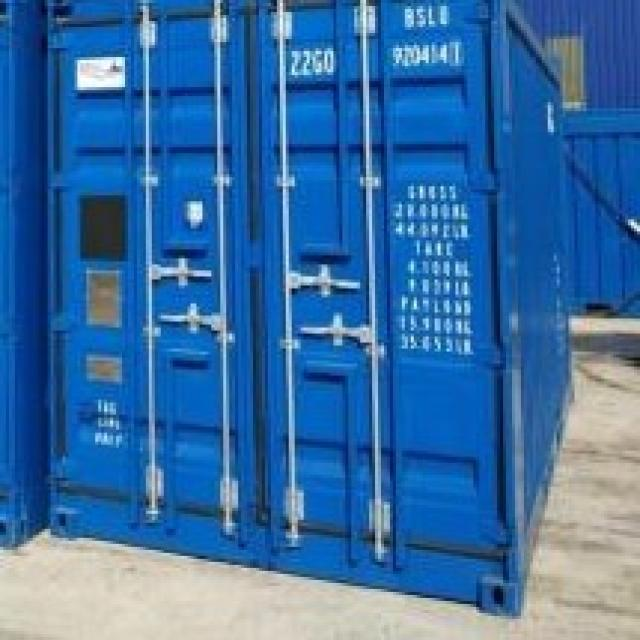ISO: (287, 50, 337, 76)
container_number: (392, 3, 466, 72)
